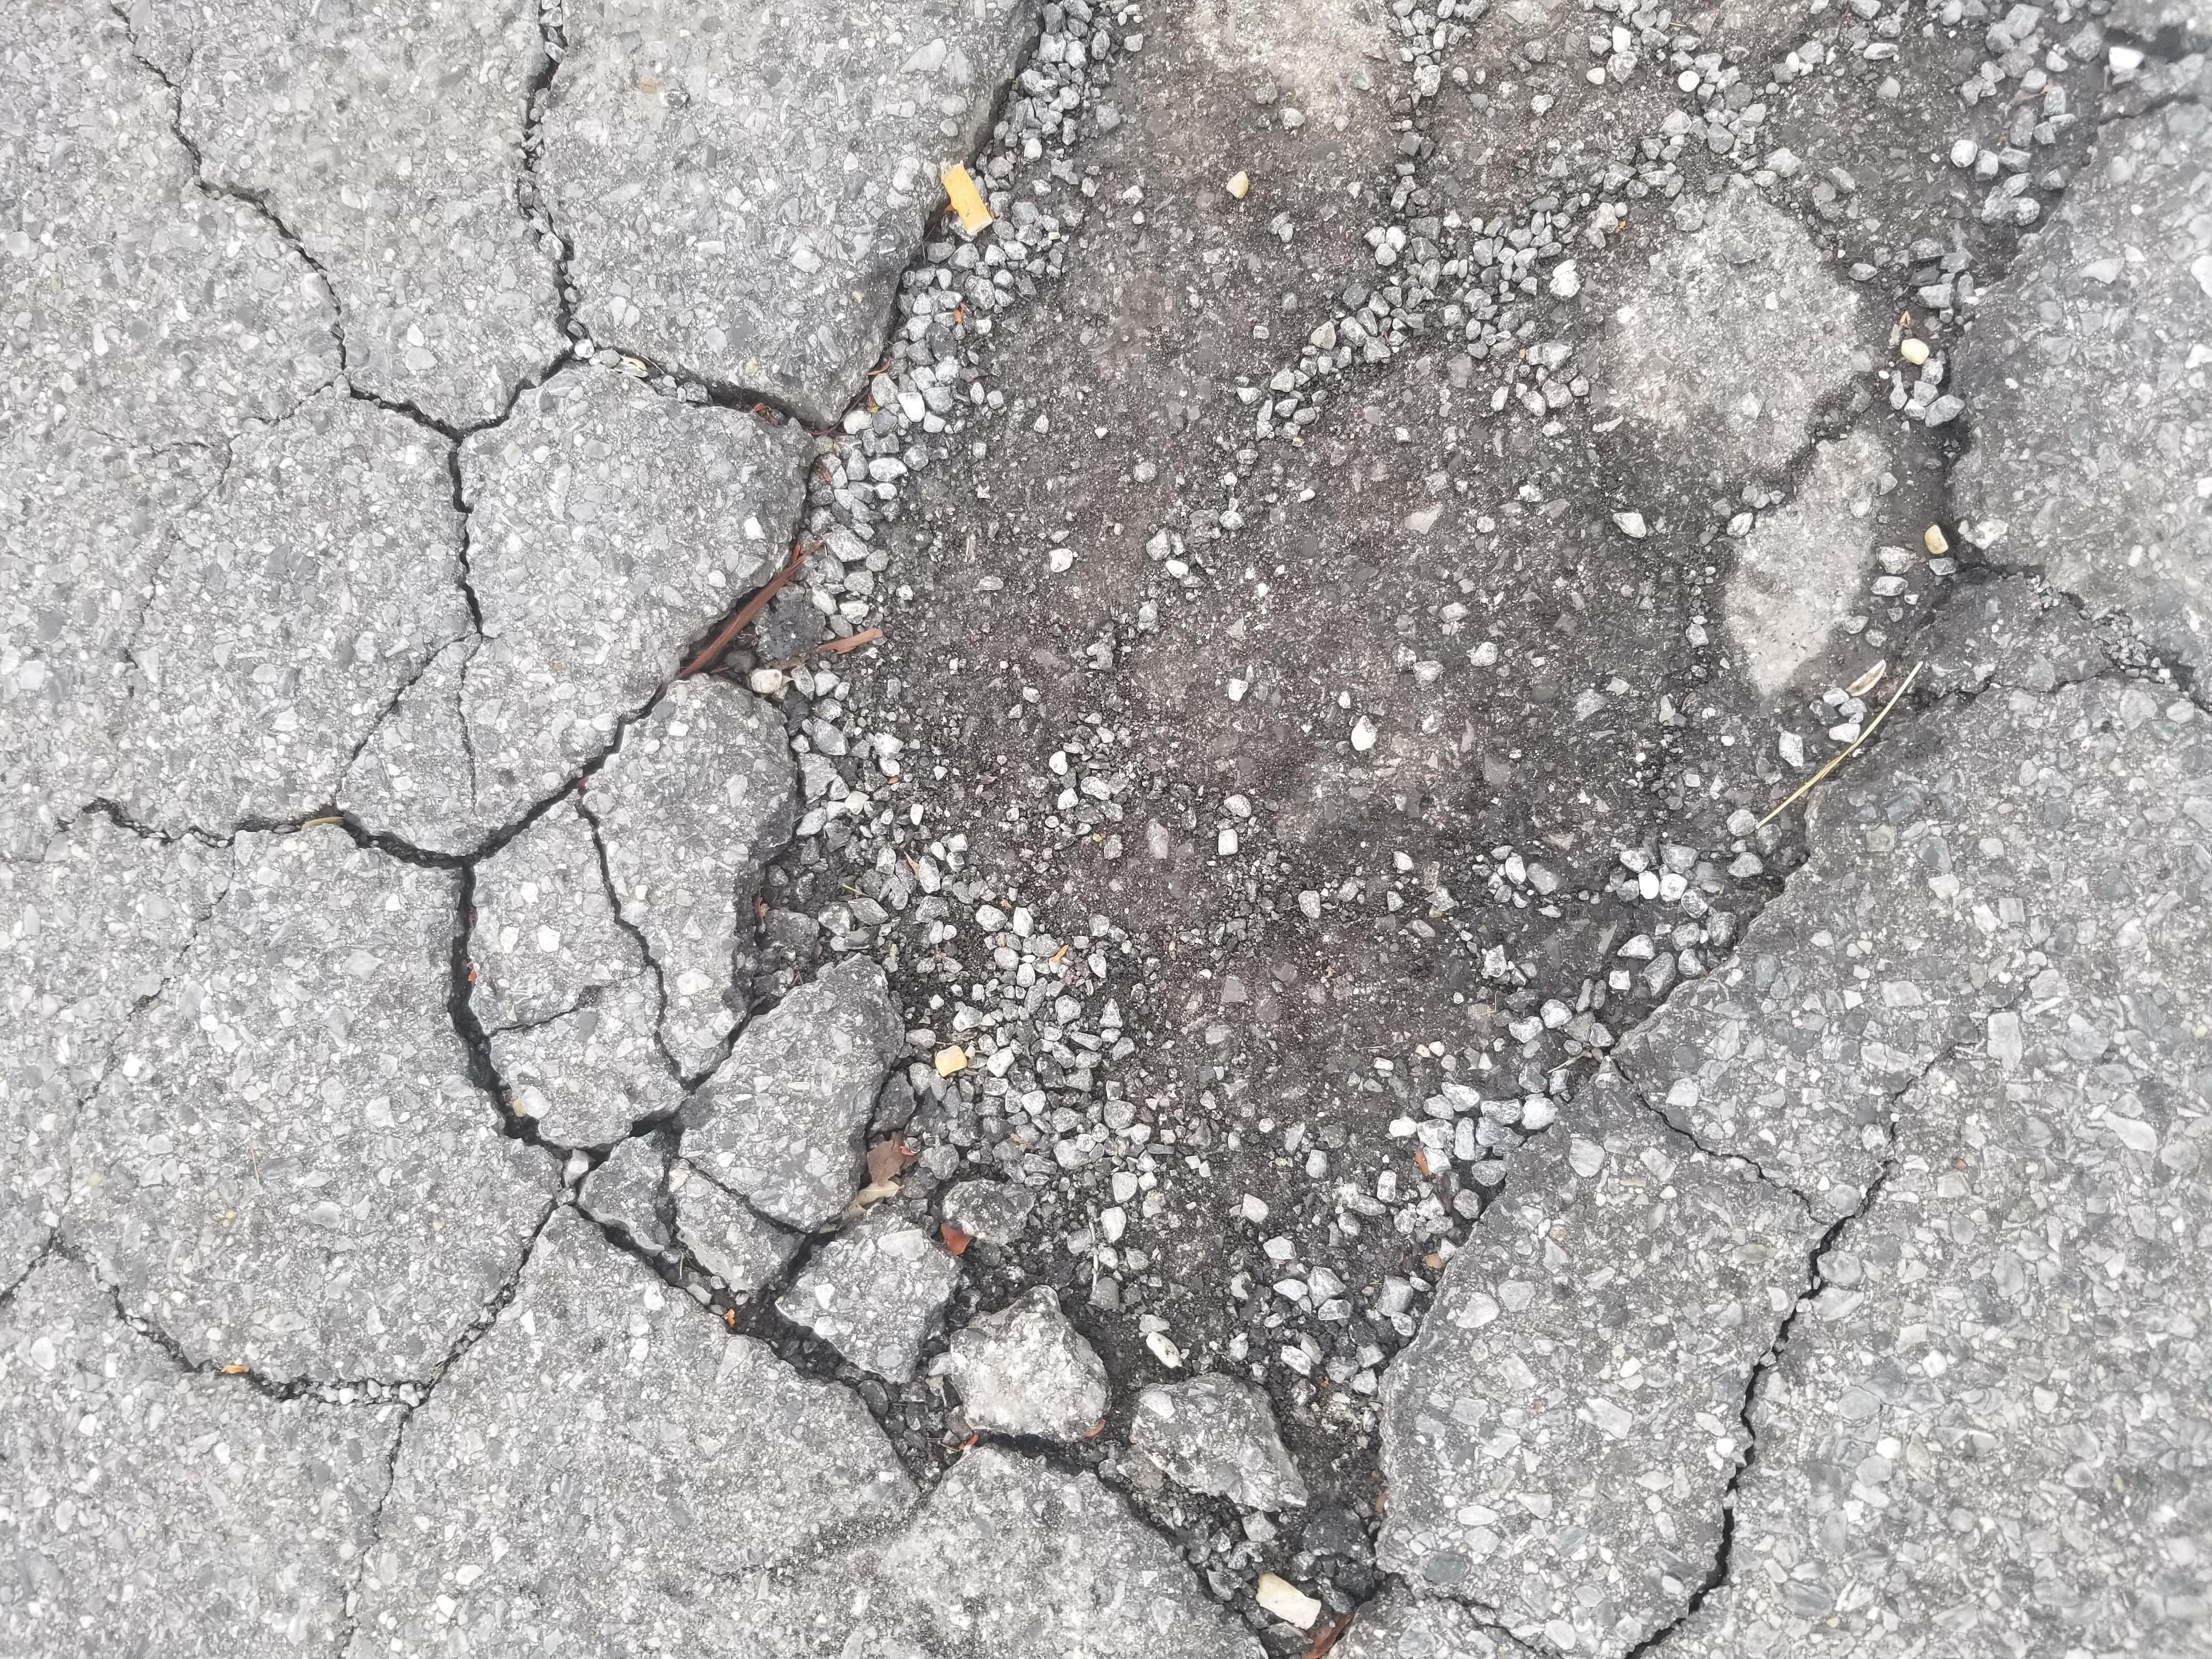alligator-crack: (0, 2, 2195, 856)
crack: (0, 1161, 812, 1448)
pothole: (242, 509, 2212, 1546)
